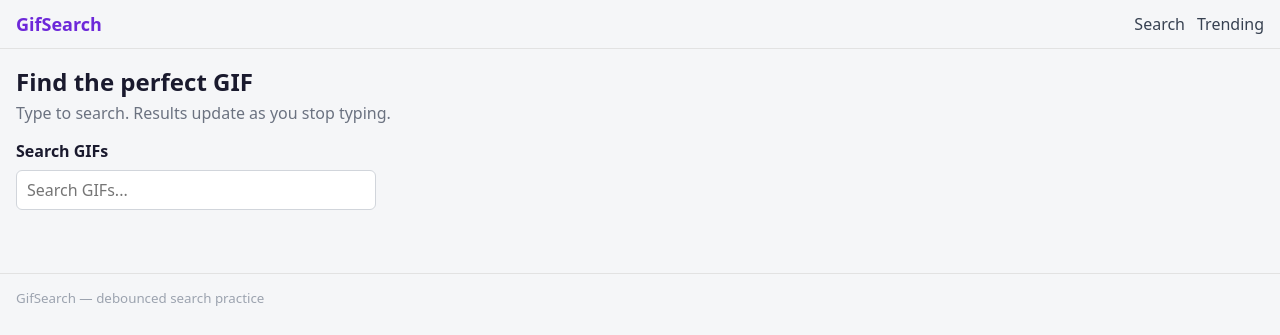
Test: m02 — app renders (GifSearch mini-app) › navigates to the trending route
The width and height of the screenshot is (1280, 335).
Expected: the element with test id "home-page" is shown, [16,65,391,210]
What coordinates should you click on to do the following:
click the link with test id "nav-trending"
I would click on:
 (1230, 24)
Its box is [1197,13,1264,35].
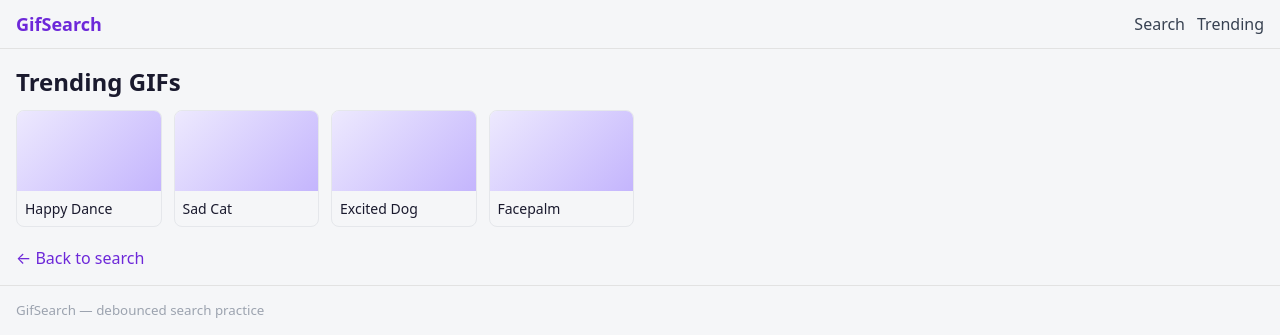
Now the element with test id "trending-page" is shown, box [16,65,634,269]
Now the element with test id "home-page" is gone
